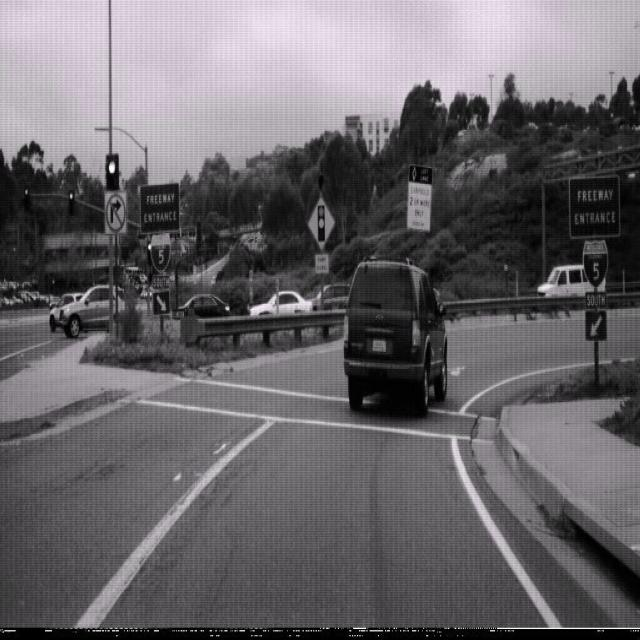noRightTurn: (105, 191, 126, 234)
